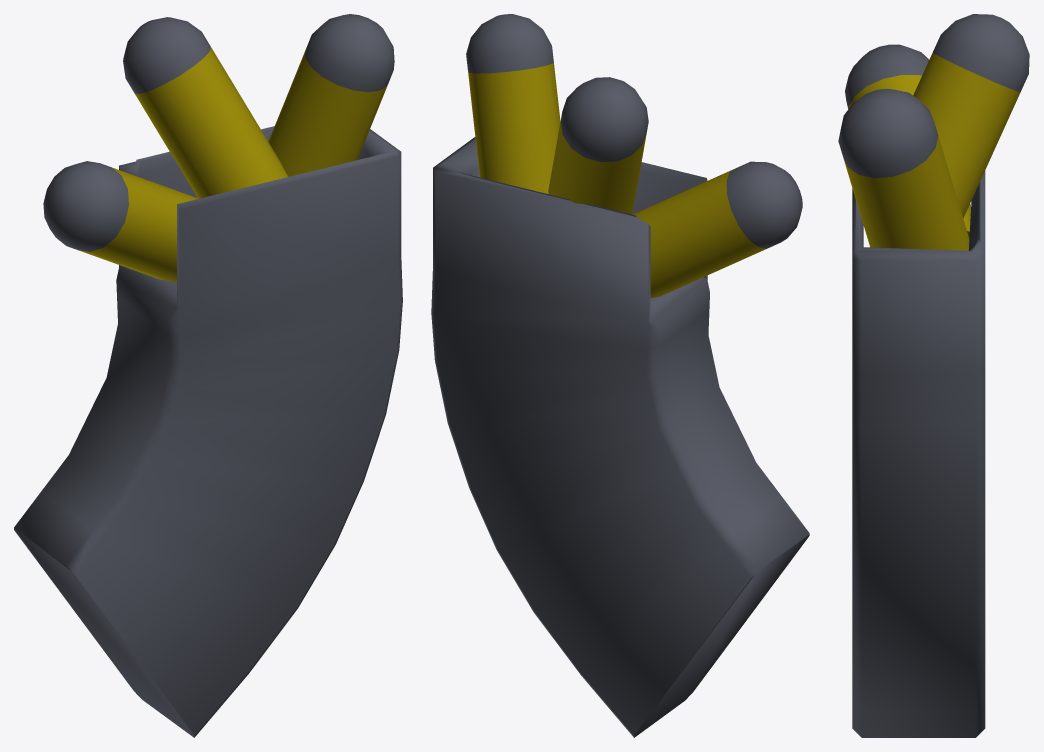
Rendered from ar ammo.fbx.
The picture shows the model from 3 angles, left to right: view 1: azimuth 30°, elevation 25°; view 2: azimuth 150°, elevation 25°; view 3: azimuth 270°, elevation 25°; orthographic projection. The views are drawn at different scales.
Visible parts, largest first — view 1: ar ammo; view 2: ar ammo; view 3: ar ammo.
Part boxes in pixels (x1=…): ar ammo: x1=14, y1=14, x2=402, y2=737; ar ammo: x1=431, y1=14, x2=809, y2=737; ar ammo: x1=838, y1=14, x2=1029, y2=737.
Bounding box in the file's own units: 646 × 1222 × 288.
